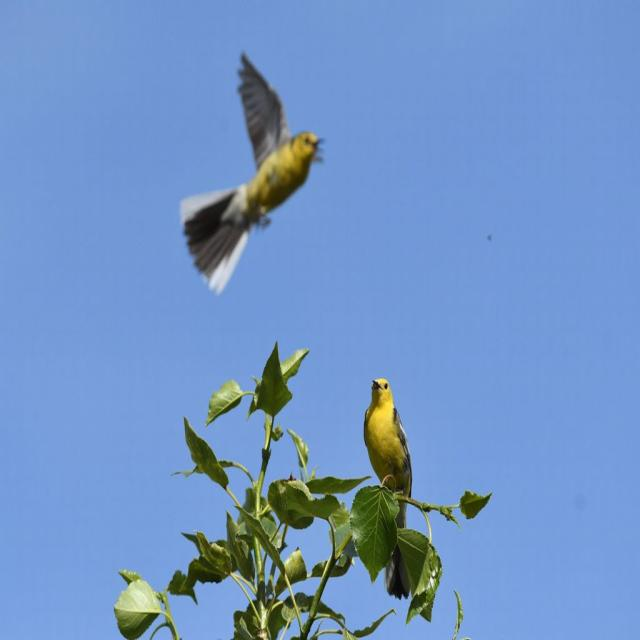bird: (176, 30, 331, 298), (362, 382, 413, 486)
